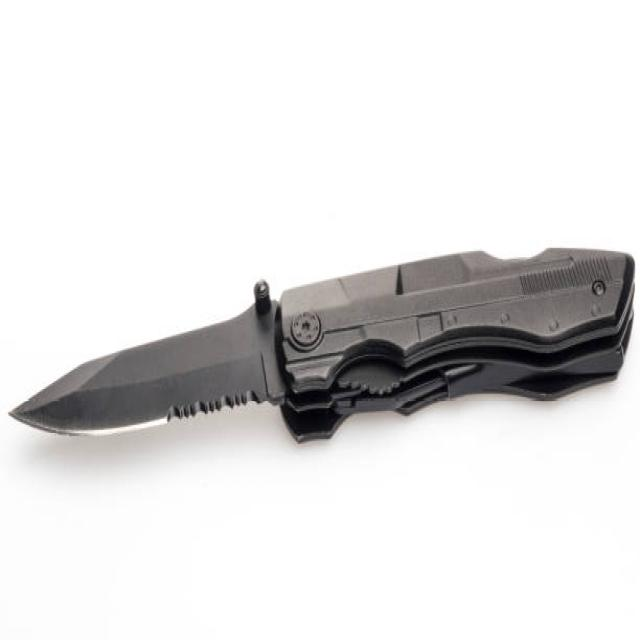knife: (10, 236, 638, 458)
